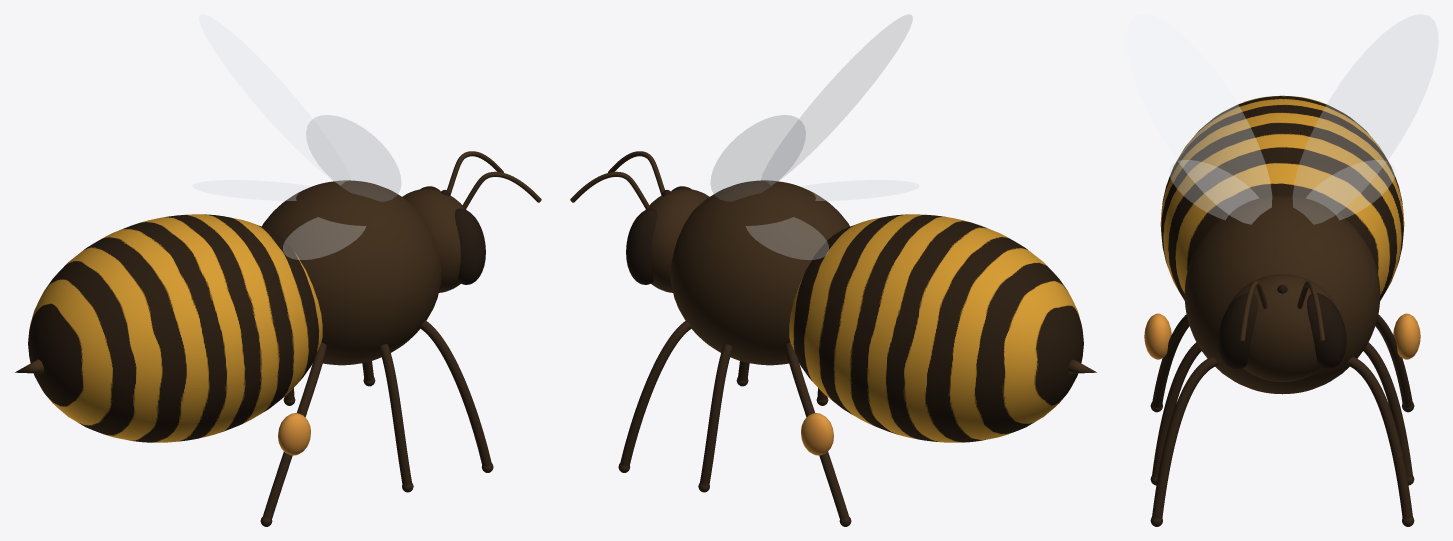
Rendered from bee-hero-low.glb.
3 renders of one model, left to right at view 1: azimuth 30°, elevation 25°; view 2: azimuth 150°, elevation 25°; view 3: azimuth 270°, elevation 25°, orthographic. The views are drawn at different scales.
Visible parts, largest first — view 1: abdomen, thorax, foreWingL, foreWingR, head, hindWingR, hindWingL, compoundEyeR, foreLegR, midLegR, hindLegR, pollen_R; view 2: abdomen, thorax, foreWingR, foreWingL, head, hindWingL, hindWingR, compoundEyeL, foreLegL, midLegL, hindLegL, pollen_L; view 3: abdomen, thorax, foreWingL, foreWingR, head, hindWingL, hindWingR, compoundEyeL, compoundEyeR, foreLegL, foreLegR, midLegL (+7 smaller).
Boxes of the visible parts, left/top/right/bottom form: abdomen: left=28, top=214, right=322, bottom=442; thorax: left=262, top=180, right=441, bottom=365; foreWingL: left=199, top=14, right=350, bottom=184; foreWingR: left=306, top=115, right=401, bottom=201; head: left=402, top=189, right=466, bottom=292; hindWingR: left=283, top=217, right=365, bottom=259; hindWingL: left=192, top=180, right=310, bottom=200; compoundEyeR: left=455, top=208, right=485, bottom=284; foreLegR: left=420, top=320, right=491, bottom=466; midLegR: left=379, top=344, right=411, bottom=485; hindLegR: left=262, top=342, right=326, bottom=519; pollen_R: left=278, top=413, right=310, bottom=455; abdomen: left=789, top=214, right=1083, bottom=442; thorax: left=670, top=180, right=849, bottom=365; foreWingR: left=761, top=14, right=912, bottom=184; foreWingL: left=710, top=115, right=805, bottom=201; head: left=645, top=189, right=709, bottom=292; hindWingL: left=746, top=217, right=828, bottom=259; hindWingR: left=801, top=180, right=919, bottom=200; compoundEyeL: left=626, top=208, right=656, bottom=284; foreLegL: left=620, top=320, right=691, bottom=466; midLegL: left=700, top=344, right=732, bottom=485; hindLegL: left=785, top=342, right=849, bottom=519; pollen_L: left=801, top=413, right=833, bottom=455; abdomen: left=1160, top=95, right=1404, bottom=300; thorax: left=1184, top=195, right=1380, bottom=394; foreWingL: left=1293, top=14, right=1438, bottom=224; foreWingR: left=1126, top=14, right=1271, bottom=224; head: left=1227, top=274, right=1337, bottom=382; hindWingL: left=1306, top=160, right=1395, bottom=219; hindWingR: left=1169, top=160, right=1258, bottom=219; compoundEyeL: left=1307, top=293, right=1346, bottom=368; compoundEyeR: left=1218, top=293, right=1257, bottom=368; foreLegL: left=1346, top=357, right=1412, bottom=518; foreLegR: left=1152, top=357, right=1218, bottom=518; midLegL: left=1363, top=342, right=1412, bottom=477.
Bounding box in the file's own units: 1.49 × 1.13 × 0.7459.
Materials: 6 (1 with a texture image).
